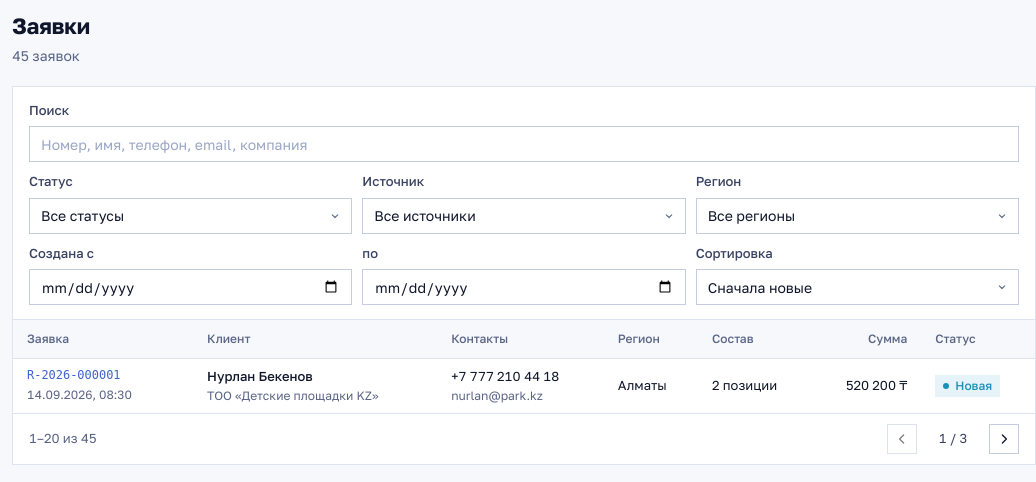
Test: список заявок › листает страницы
Check: the text "1–20" is shown, box [29,430,60,446]
What coordinates should you click on to do the following:
click the button named "Следующая страница"
I would click on:
 (1004, 439)
Its box is [989,424,1019,454].
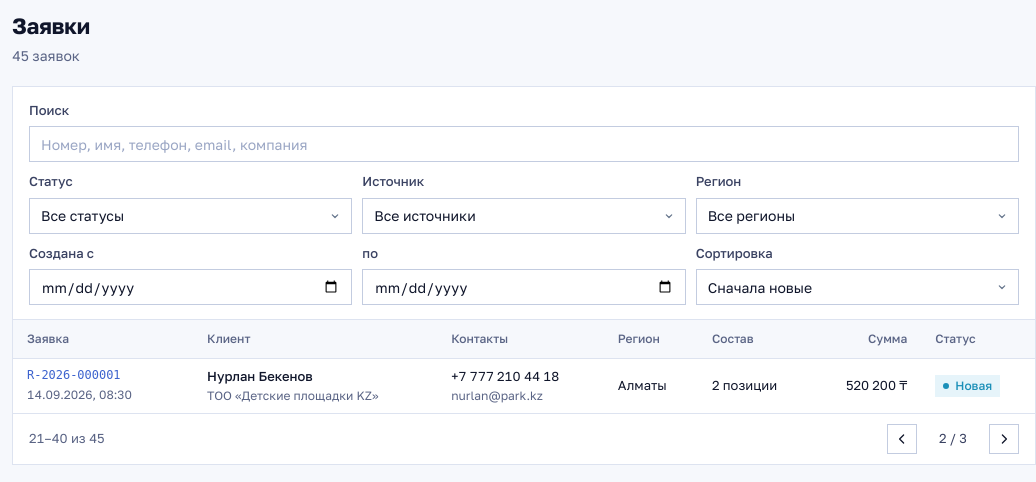
Check: the text "21–40" is shown, box [29,430,68,446]
